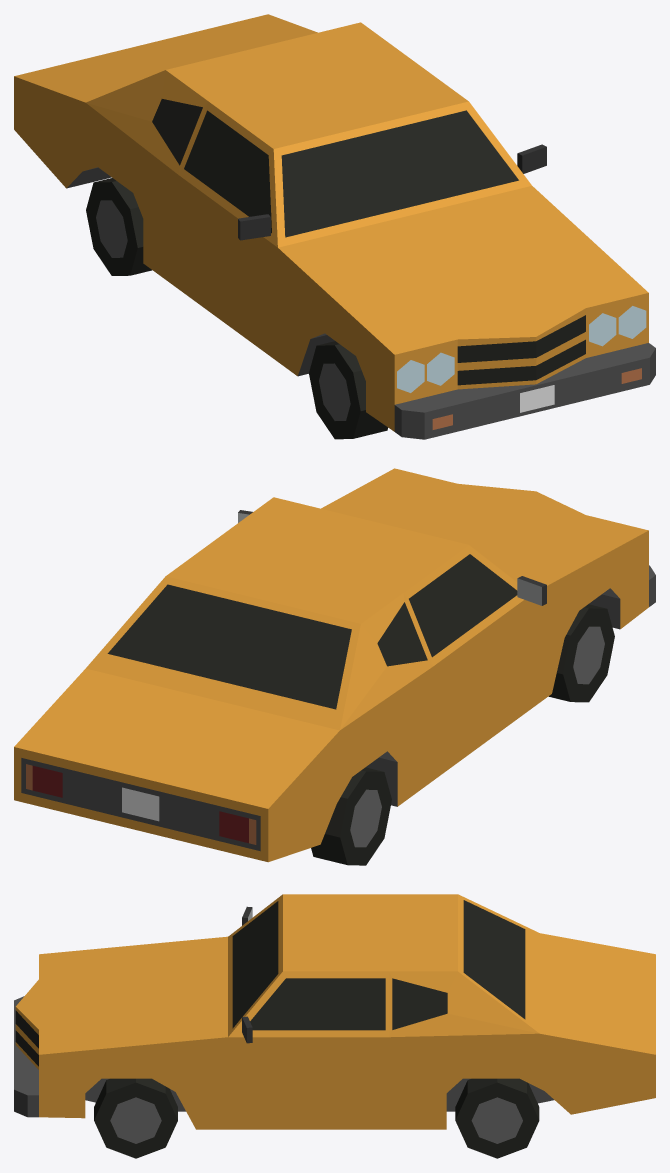
File: Veh_Muscle_Car_02_Yellow.obj
3 renders of one model, top to bottom at view 1: azimuth 30°, elevation 25°; view 2: azimuth 150°, elevation 25°; view 3: azimuth 270°, elevation 25°, orthographic. The views are drawn at different scales.
Bounding box in the file's own units: 1.18 × 0.8001 × 2.65.
